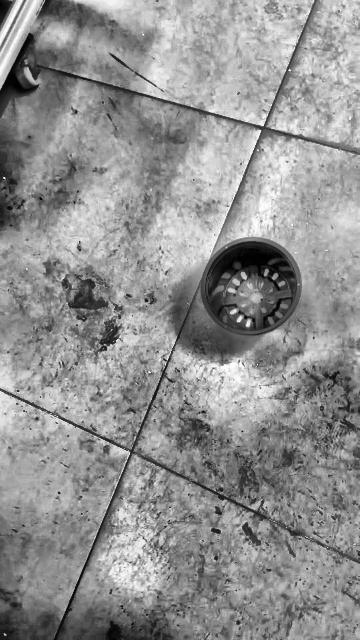pot: (200, 238, 301, 335)
